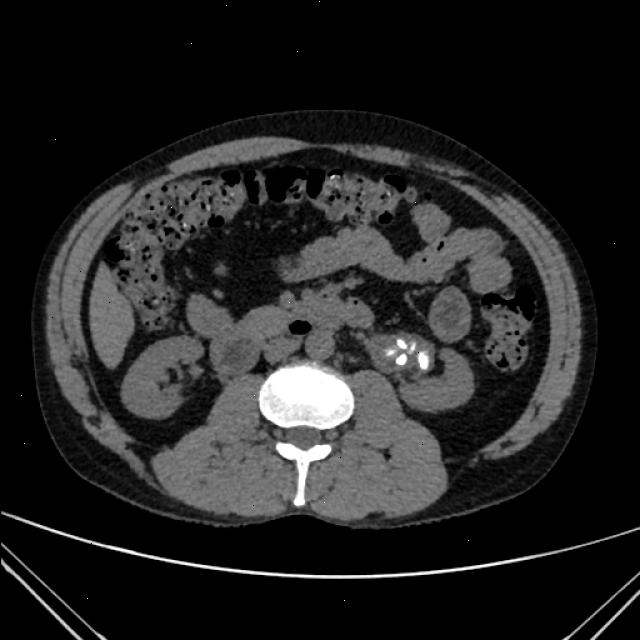kidneystone: (419, 351, 430, 369), (395, 354, 408, 366), (396, 339, 408, 349), (409, 341, 416, 353), (386, 350, 396, 356)
